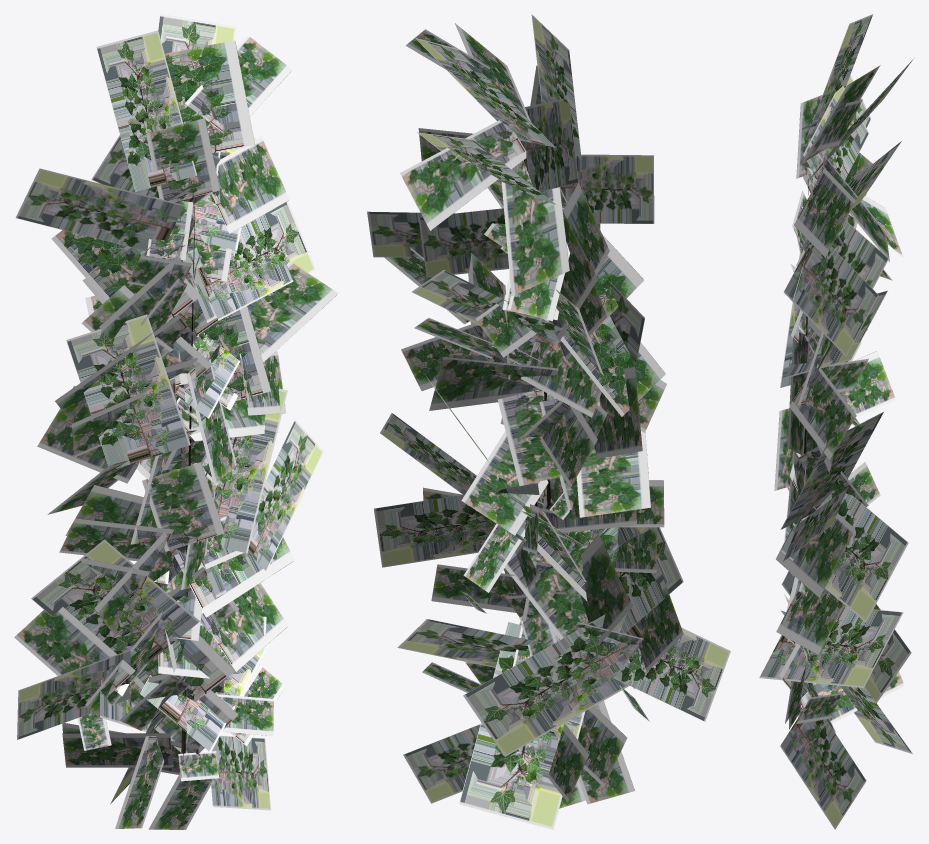
File: Ivy2.fbx
3 renders of one model, left to right at view 1: azimuth 30°, elevation 25°; view 2: azimuth 150°, elevation 25°; view 3: azimuth 270°, elevation 25°, orthographic. The views are drawn at different scales.
Parts seen in each view (by area): view 1: Ivy2; view 2: Ivy2; view 3: Ivy2.
Boxes of the visible parts, x1,y1,x2,y2 form: Ivy2: [14, 14, 338, 829]; Ivy2: [367, 14, 730, 829]; Ivy2: [759, 14, 913, 829].
Bounding box in the file's own units: 192 × 446 × 83.17.
